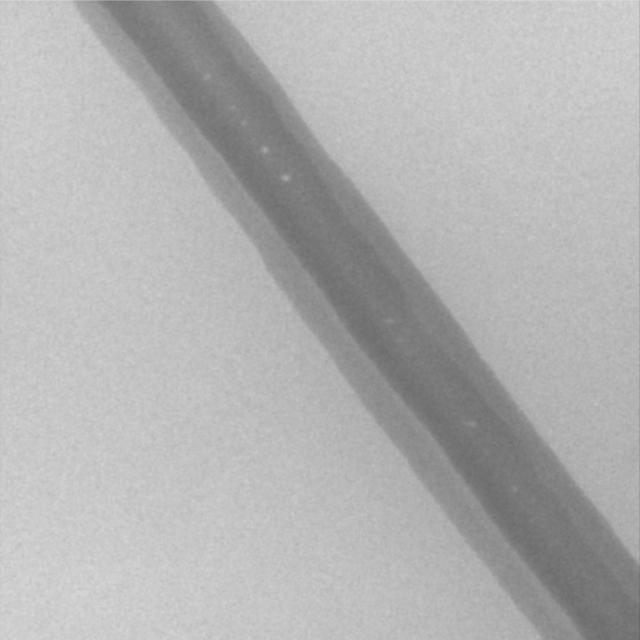air hole: (201, 71, 212, 82), (279, 173, 290, 182), (258, 146, 269, 155), (464, 420, 476, 428)
